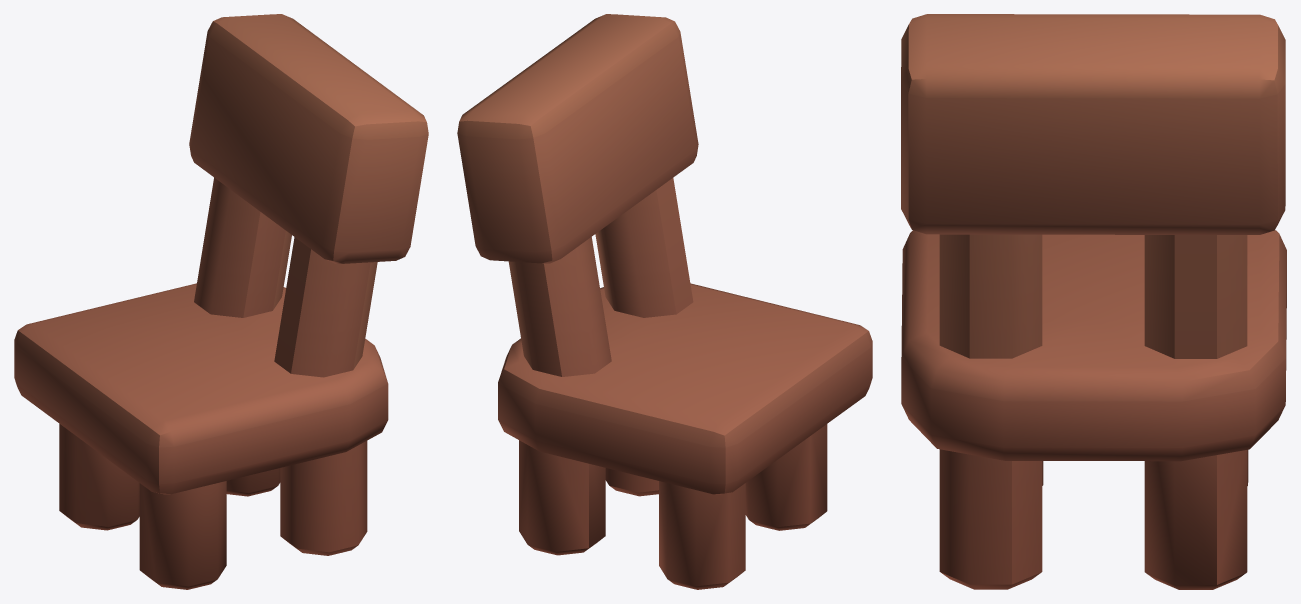
The model's file is Chair.glb.
3 views of the same model, side by side, from view 1: azimuth 30°, elevation 25°; view 2: azimuth 150°, elevation 25°; view 3: azimuth 270°, elevation 25° (orthographic). The views are drawn at different scales.
Visible parts, largest first — view 1: chair_B.001; view 2: chair_B.001; view 3: chair_B.001.
Boxes of the visible parts, left/top/right/bottom form: chair_B.001: left=14, top=14, right=428, bottom=589; chair_B.001: left=457, top=14, right=872, bottom=589; chair_B.001: left=901, top=14, right=1286, bottom=589.
Bounding box in the file's own units: 0.6154 × 0.9302 × 0.5799.
Materials: 1 (1 with a texture image).
